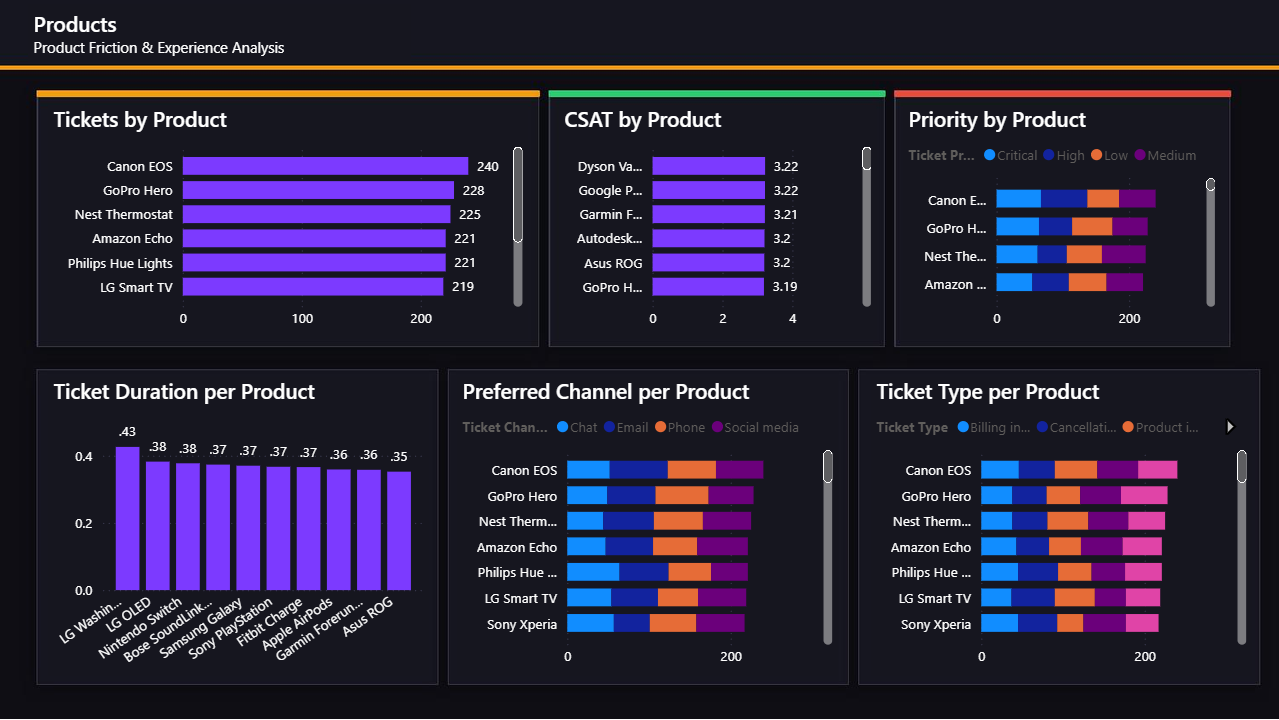

This screenshot's page, from the dashboard's own definition file:
{"tool":"powerbi","page":{"name":"Products","canvas":[1280,720],"ordinal":3},"visuals":[{"type":"textbox","box":[106.8,43.1,343.8,52.1],"z":0},{"type":"clusteredBarChart","title":"Tickets by Product","fields":{"Category":["customer_support_tickets.Product Purchased"],"Y":["_Measure.01 Total Tickets"]},"box":[124.8,133.8,430.9,210.1],"z":1000},{"type":"clusteredBarChart","title":"CSAT by Product","fields":{"Category":["customer_support_tickets.Product Purchased"],"Y":["_Measure.06 AVG CSAT"]},"box":[583.5,133.8,285.5,210.1],"z":2000},{"type":"barChart","title":"Priority by Product","fields":{"Category":["customer_support_tickets.Product Purchased"],"Y":["_Measure.01 Total Tickets"],"Series":["customer_support_tickets.Ticket Priority"]},"box":[892.4,133.8,285.5,210.1],"z":3000},{"type":"columnChart","title":"Ticket Duration per Product","fields":{"Category":["customer_support_tickets.Product Purchased"],"Y":["_Measure.07 AVG Ticket Duration"]},"box":[124.8,378,342,269.3],"z":4000},{"type":"barChart","title":"Preferred Channel per Product","fields":{"Category":["customer_support_tickets.Product Purchased"],"Y":["_Measure.01 Total Tickets"],"Series":["customer_support_tickets.Ticket Channel"]},"box":[492,378,342,269.3],"z":5000},{"type":"barChart","title":"Ticket Type per Product","fields":{"Category":["customer_support_tickets.Product Purchased"],"Y":["_Measure.01 Total Tickets"],"Series":["customer_support_tickets.Ticket Type"]},"box":[863.6,378,342,269.3],"z":6000}]}

Visuals, with their boxes in screenshot pixels (x1, y1, x2, y2), scaled from the page's 1280x720 canvas onto the 1279x720 screenshot:
textbox: 107, 43, 450, 95
"Tickets by Product" clusteredBarChart: 125, 134, 555, 344
"CSAT by Product" clusteredBarChart: 583, 134, 868, 344
"Priority by Product" barChart: 892, 134, 1177, 344
"Ticket Duration per Product" columnChart: 125, 378, 466, 647
"Preferred Channel per Product" barChart: 492, 378, 833, 647
"Ticket Type per Product" barChart: 863, 378, 1205, 647
